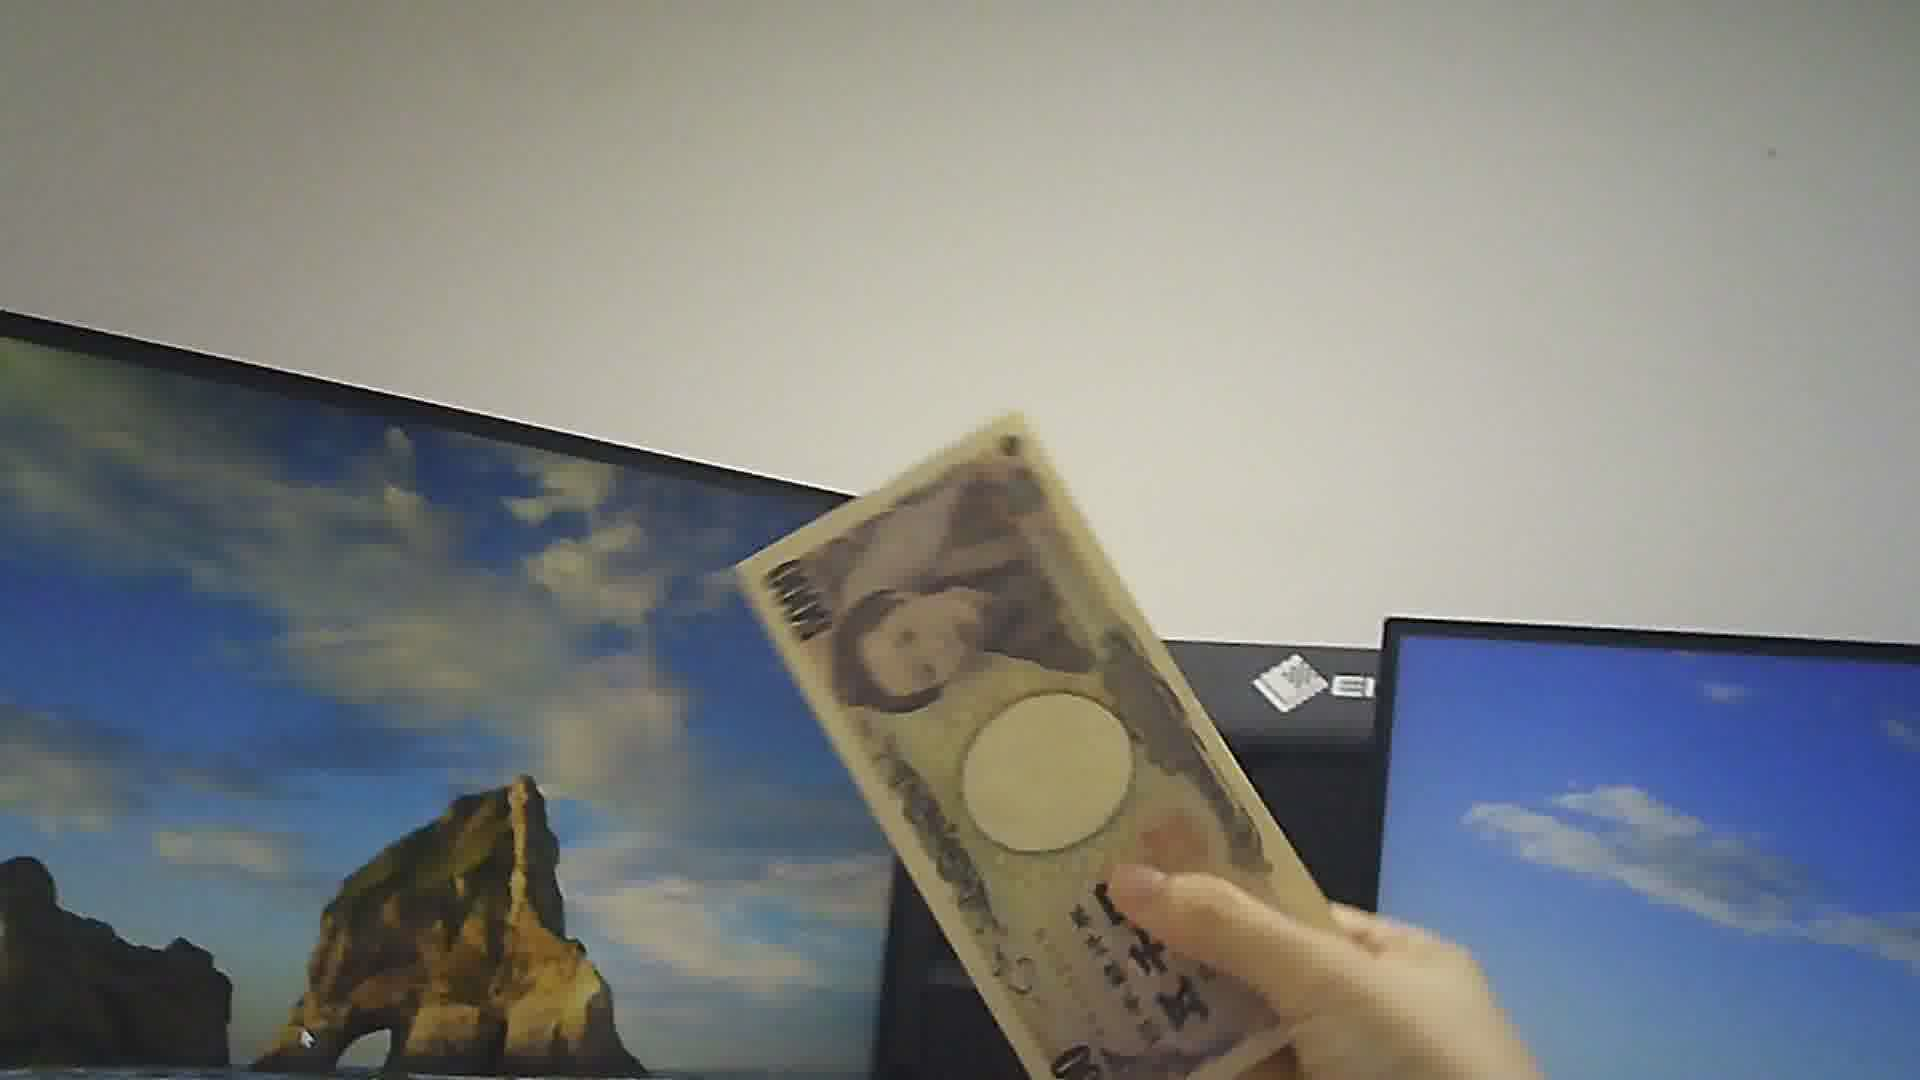5,000 Yen: (717, 438, 1378, 1055)
